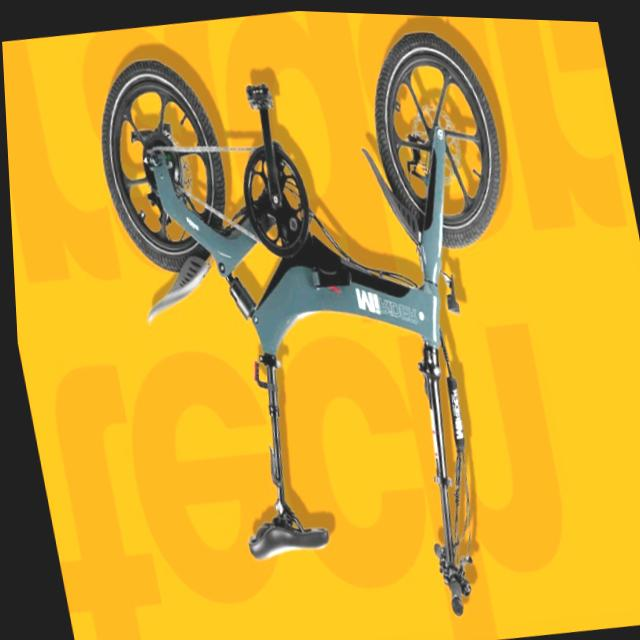folding-bike: (76, 2, 590, 640)
